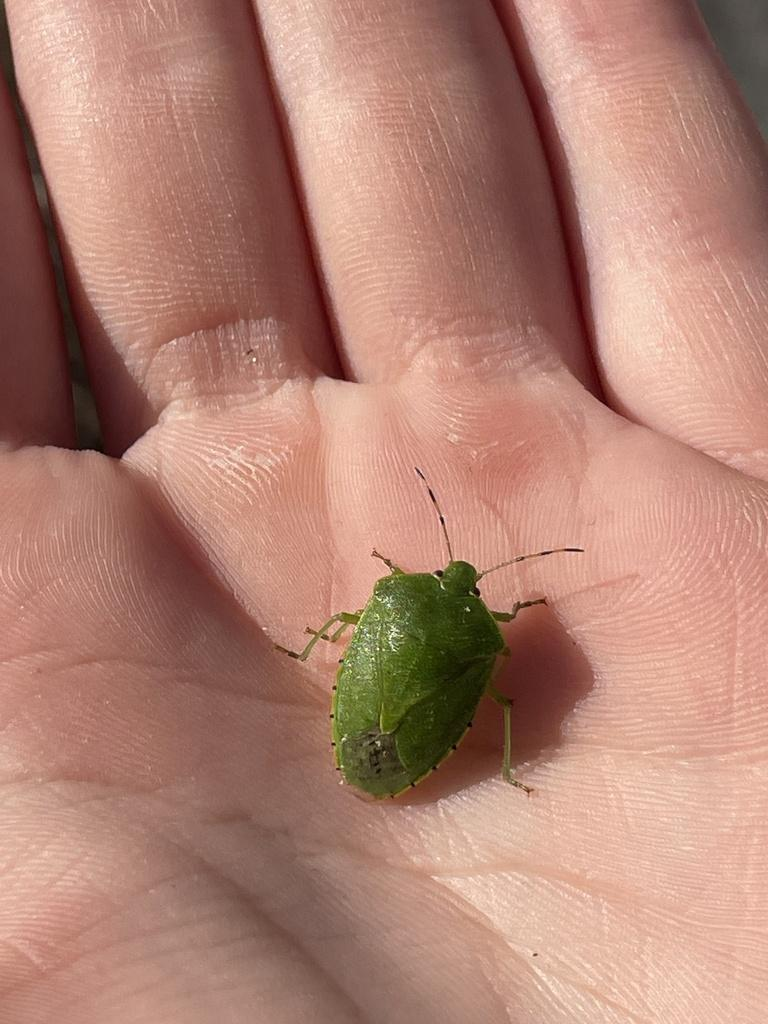stink_bugs: (230, 429, 652, 879)
